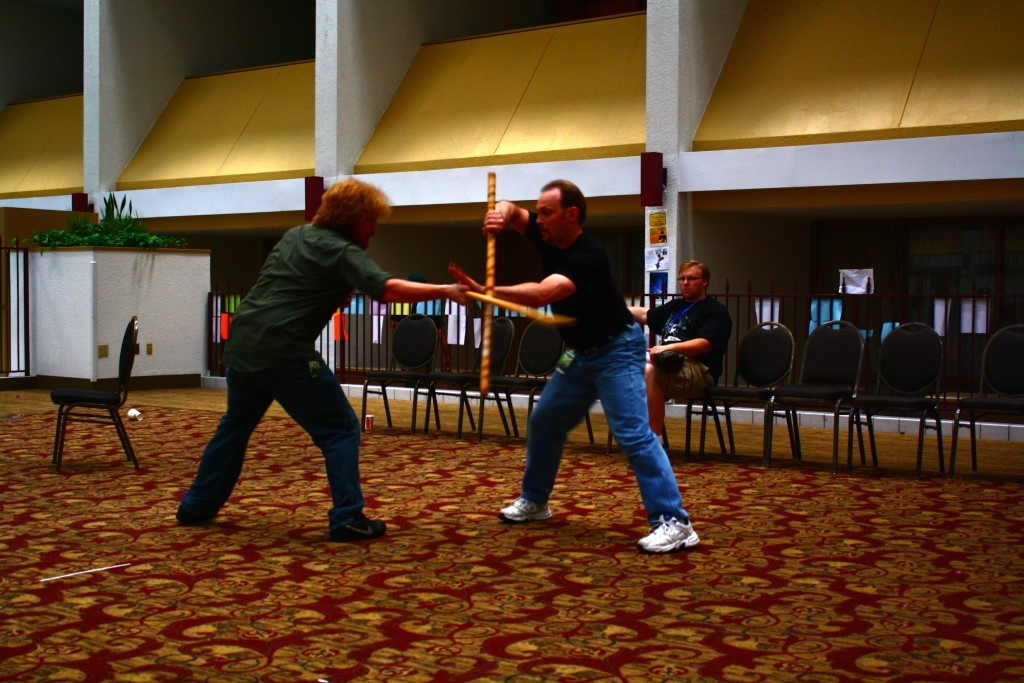baston_e: (476, 180, 498, 389), (467, 287, 553, 325)
baston_v: (547, 310, 578, 329), (474, 381, 492, 399), (484, 165, 501, 182)
